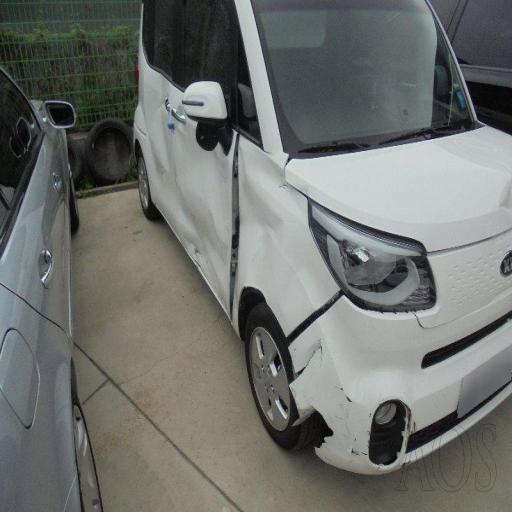broken: (250, 141, 386, 458)
dent: (152, 106, 232, 282)
